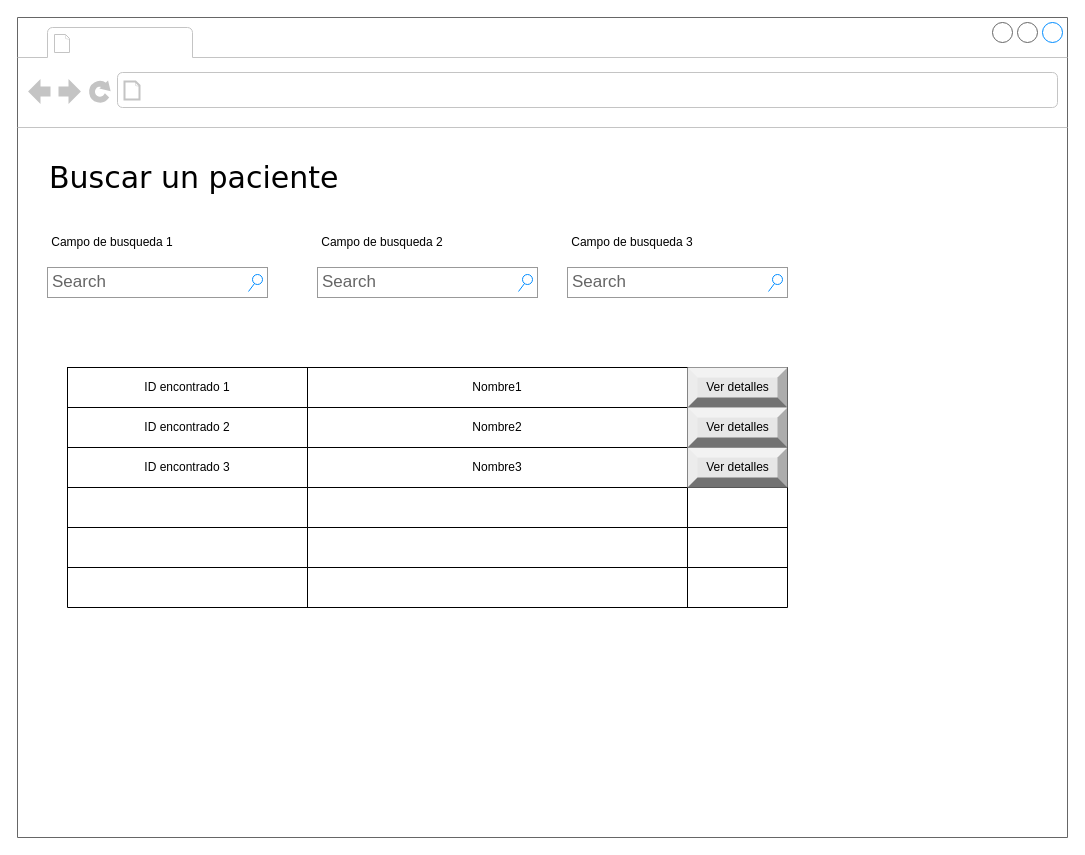
Some shapes in this 1085 by 855 pixel diagram are drawn without their labels. The box of each missing label's shape, as (x1, y1, x2, y2) in pixels:
https://www.default.com: (146, 76, 398, 104)
Page 1: (76, 28, 188, 56)
